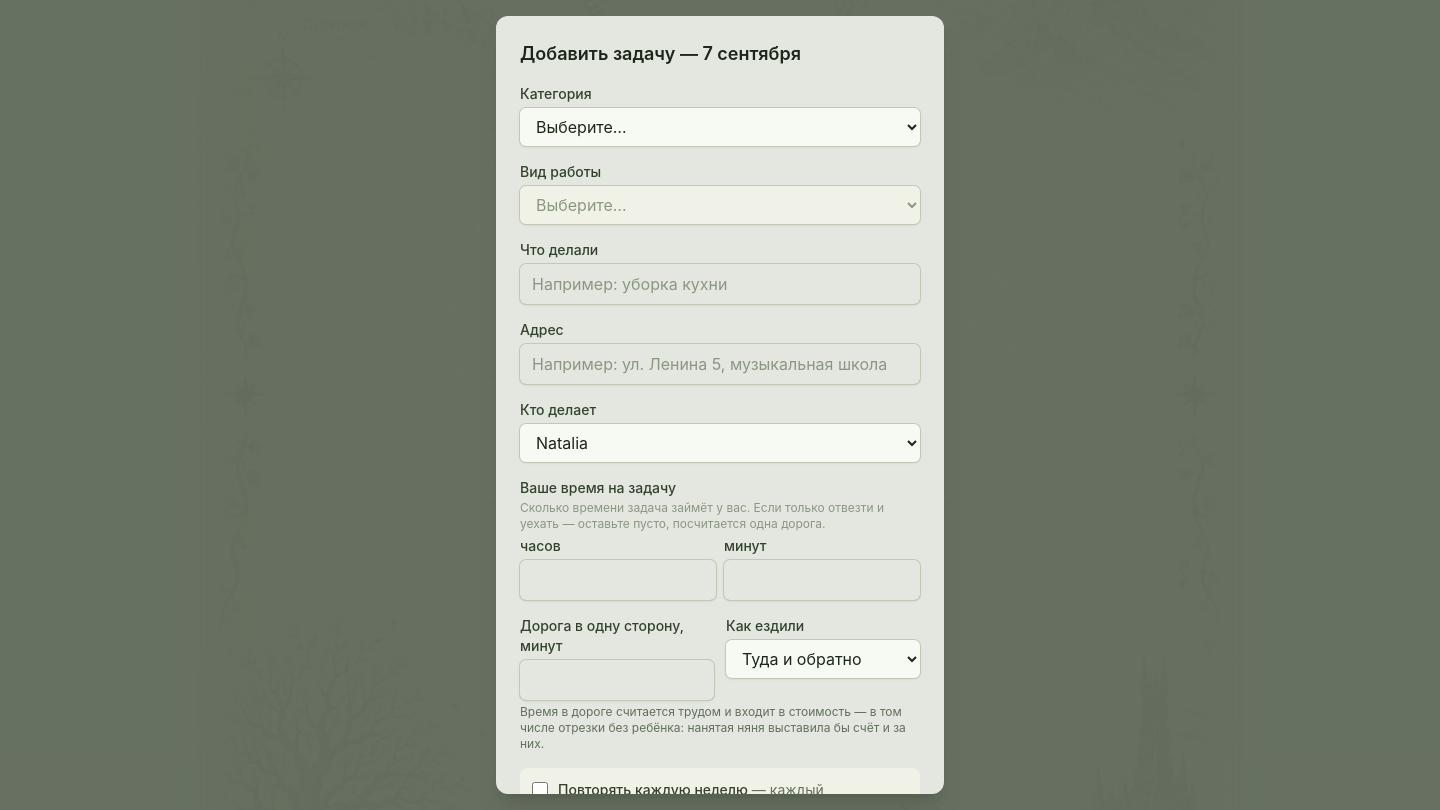
Test: AddPlannedTaskDialog: повтор каждую неделю › пустое название не сохраняет даже с галочкой
Select "🧒 Ребёнок" in the dropdown labelled "Категория" at (720, 127), box x1=520 y1=108 x2=920 y2=146
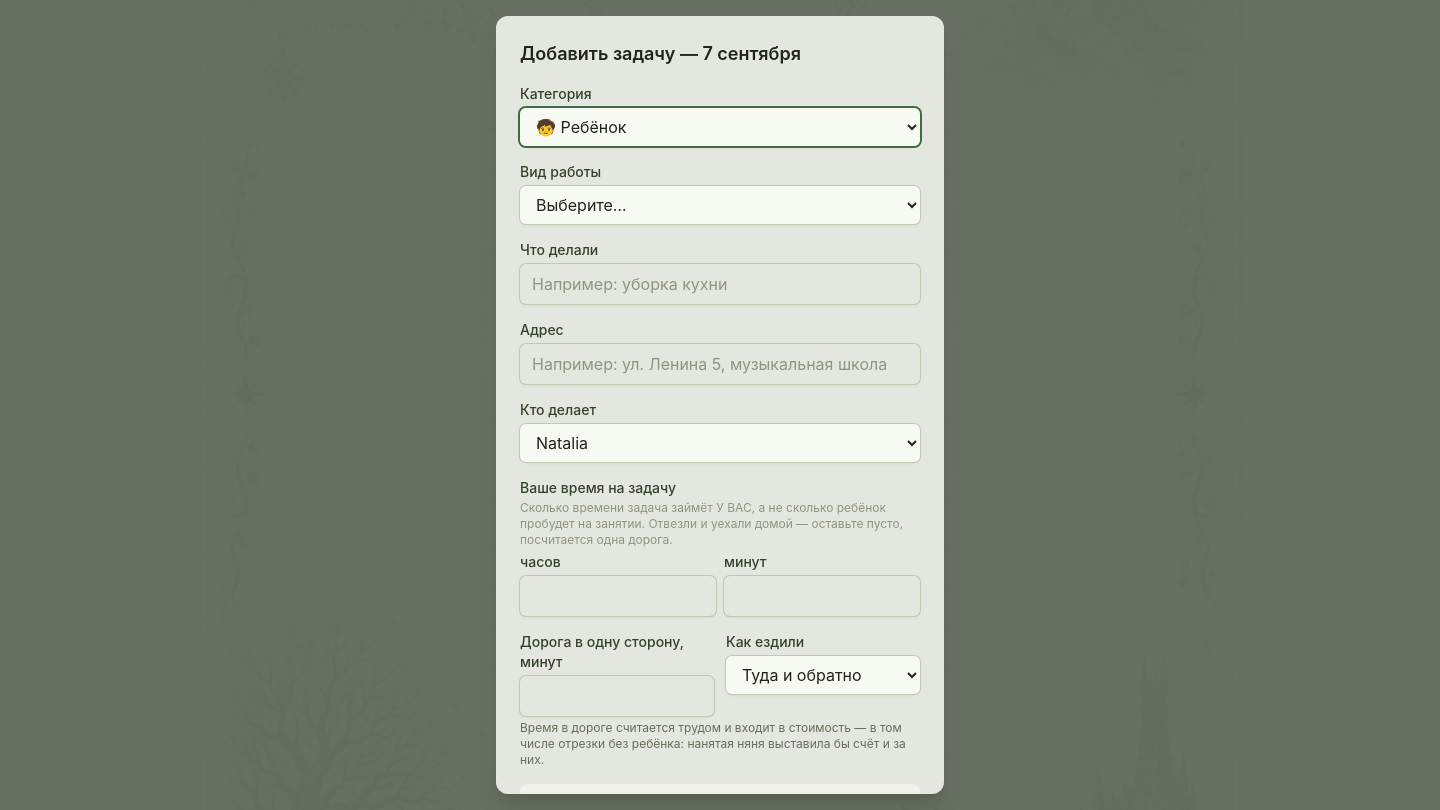
Select "Логистика (отвезти/забрать)" in the dropdown labelled "Вид работы" at (720, 205), box x1=520 y1=186 x2=920 y2=224
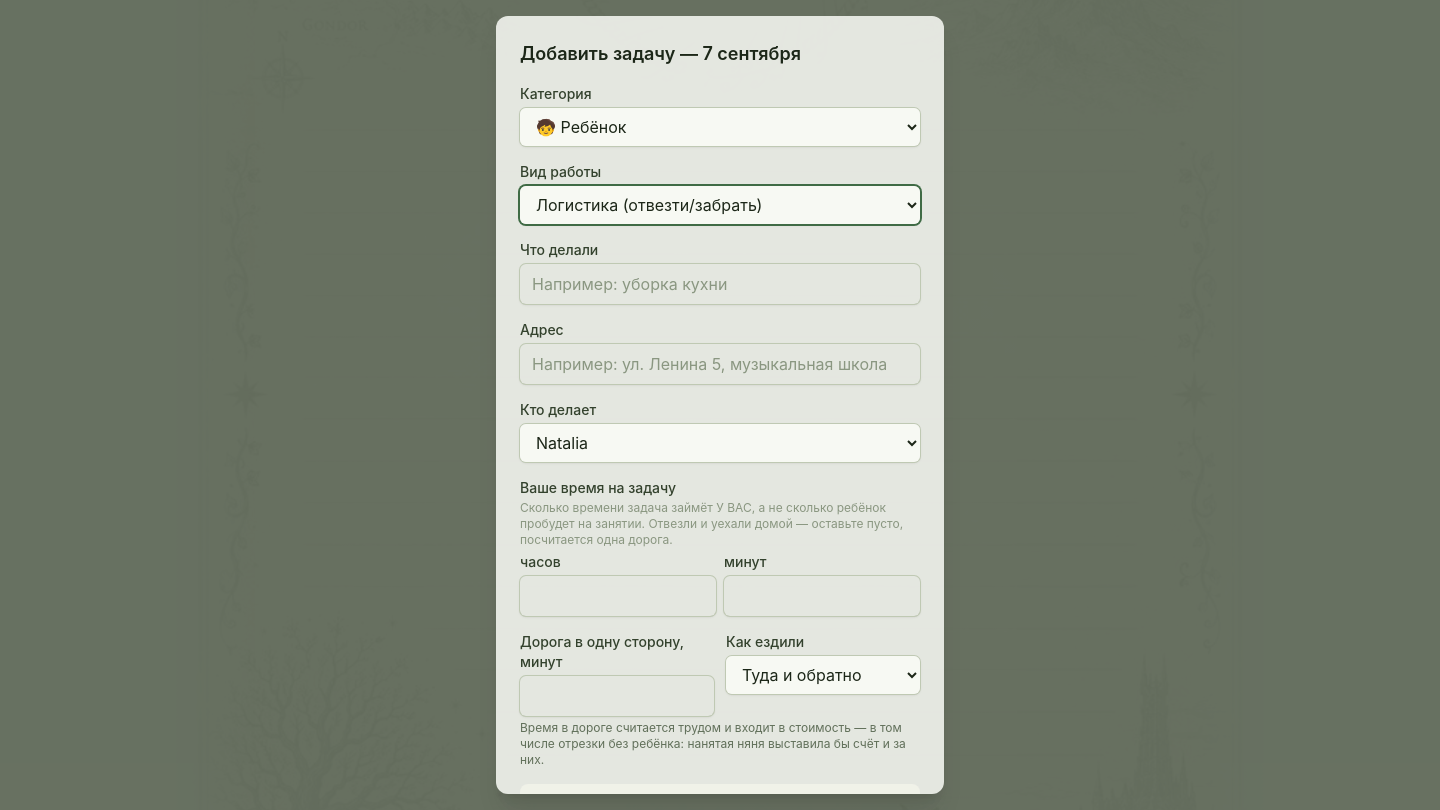
Type "30" into the number field labelled "минут".
click(822, 596); type("30")  # box x1=724 y1=576 x2=920 y2=616
(page scrolled)
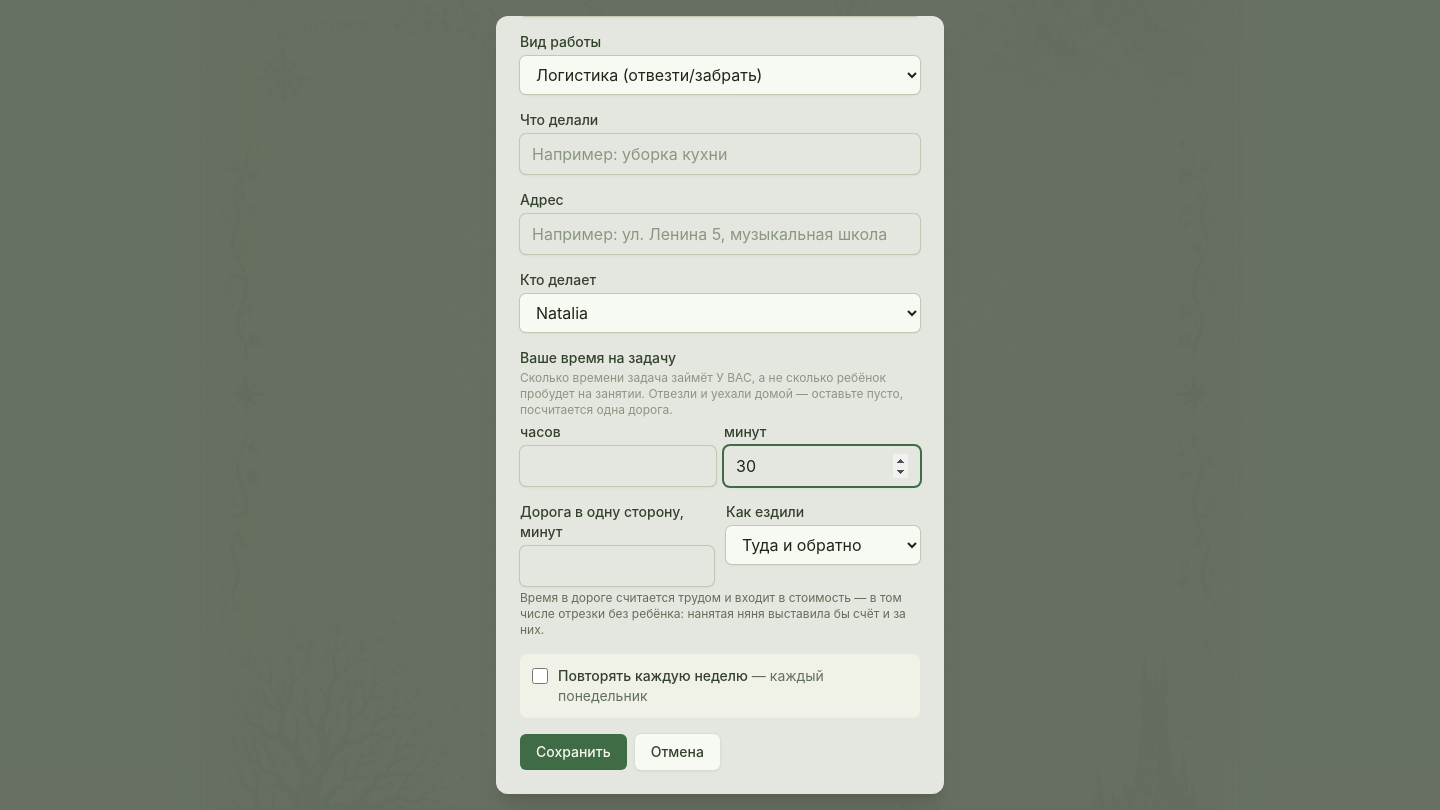
Click the checkbox labelled "Повторять каждую неделю — каждый понедельник".
click(540, 676)  # box x1=532 y1=668 x2=548 y2=684
(page scrolled)
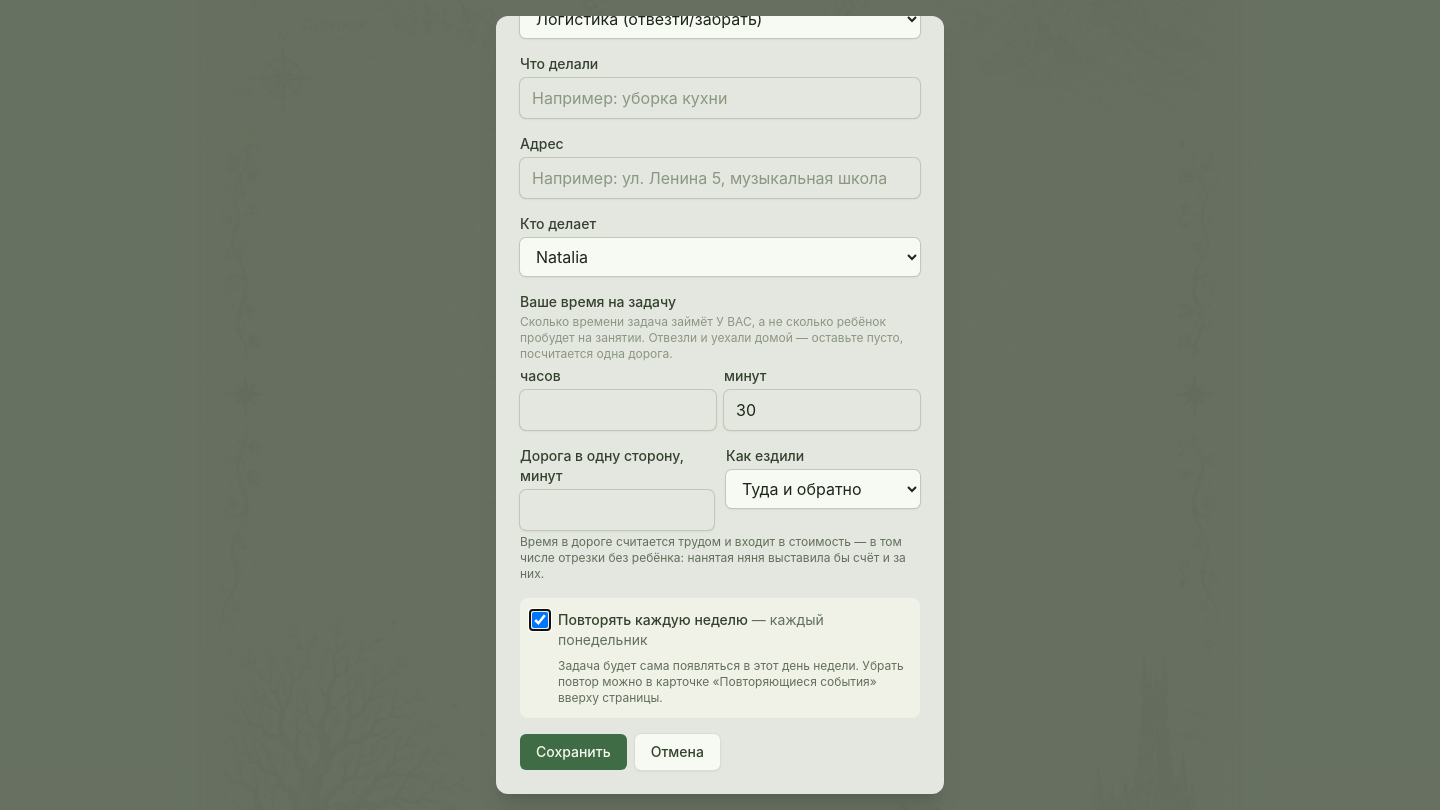
Click the button "Сохранить".
click(573, 752)  # box x1=520 y1=734 x2=627 y2=770
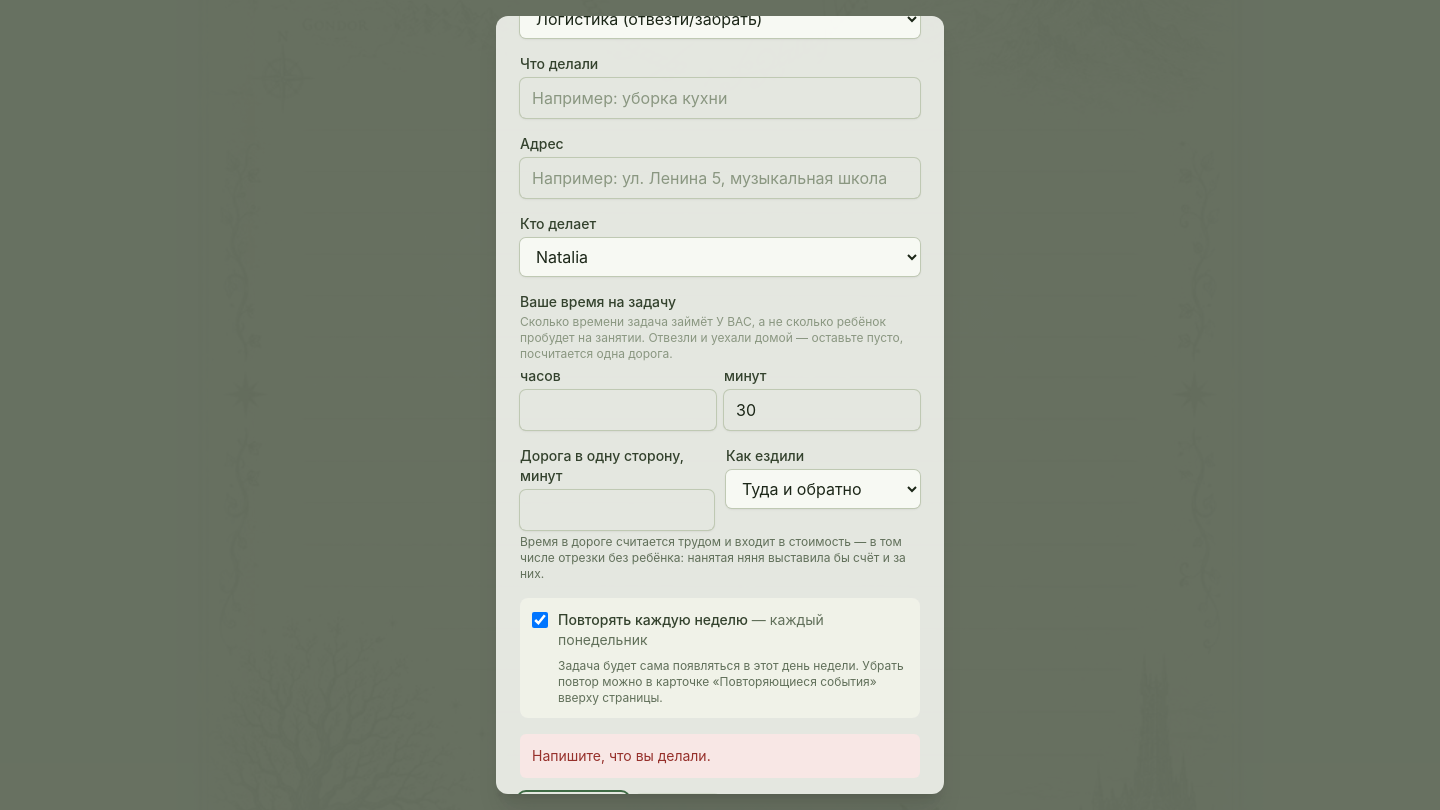
Check: the message shows "Напишите, что вы делали", box x1=532 y1=747 x2=711 y2=764
